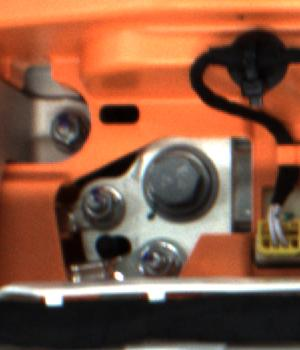nut_b: (141, 143, 215, 220)
screw_s: (76, 183, 124, 226), (41, 110, 85, 152), (140, 239, 185, 277)
